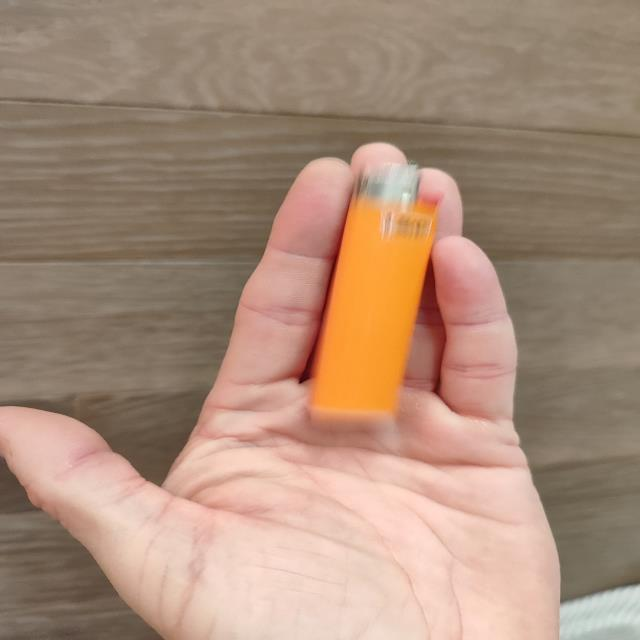lighter: (310, 164, 436, 422)
